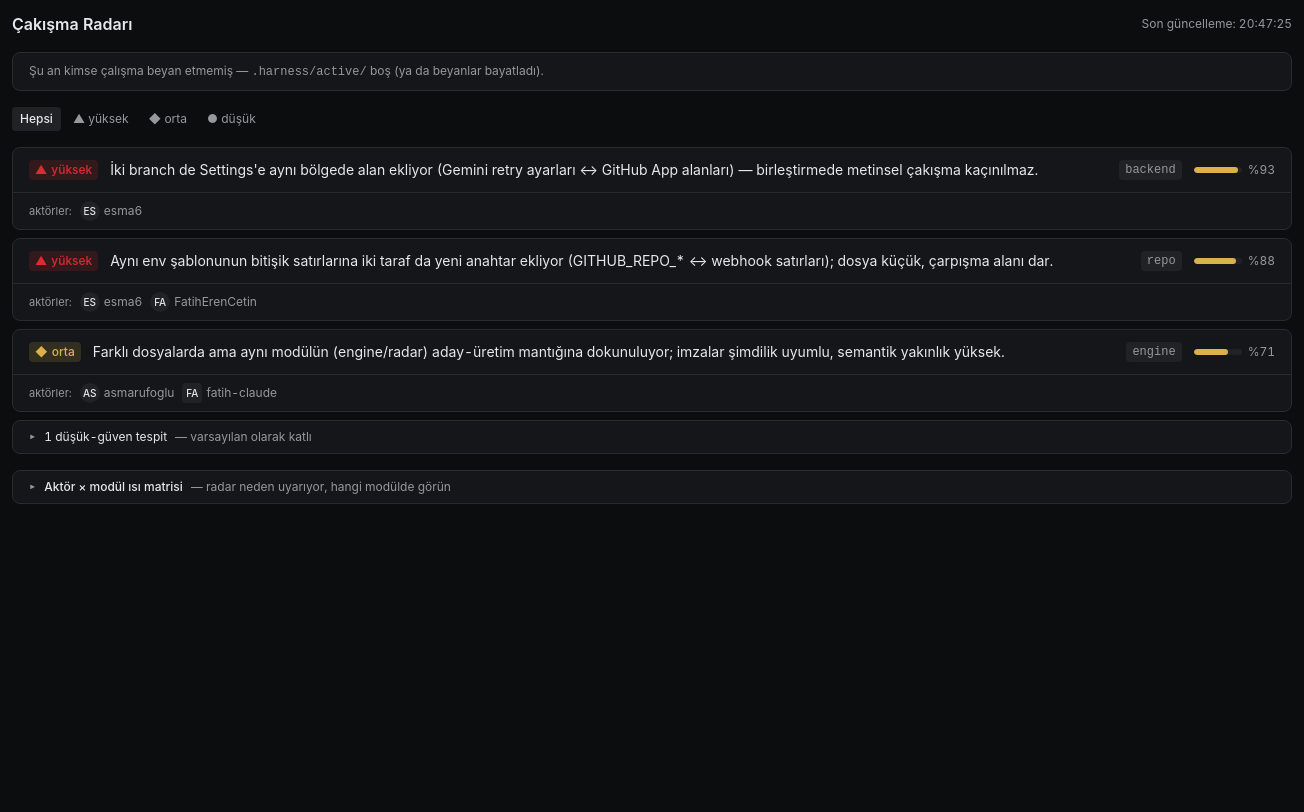
Test: DetailSheet (#156 — Pencil MOGXv'ye dönüş) › ↑↓ görünür listede gezinir
The image size is (1304, 812).
Click the 5th button.
click(652, 170)  # box [13,148,1291,192]
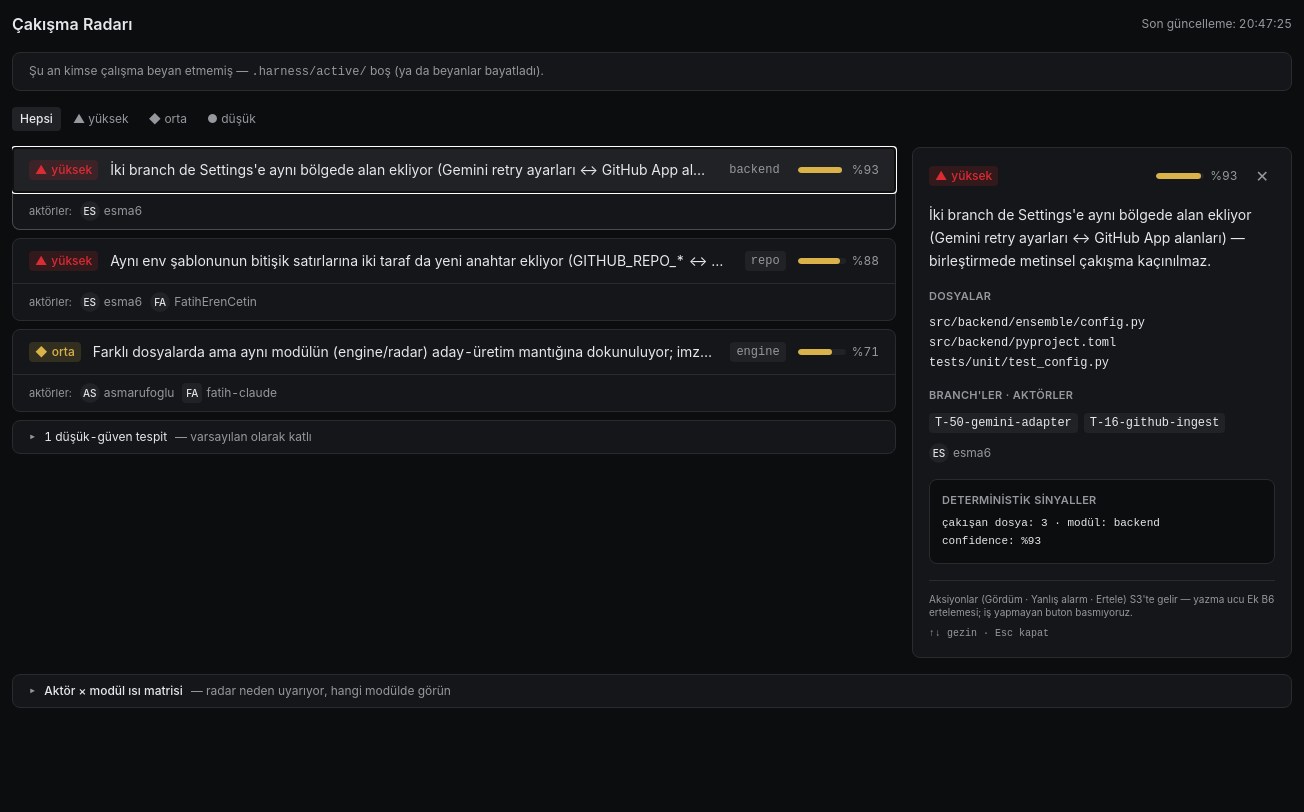
Press Arrowdown
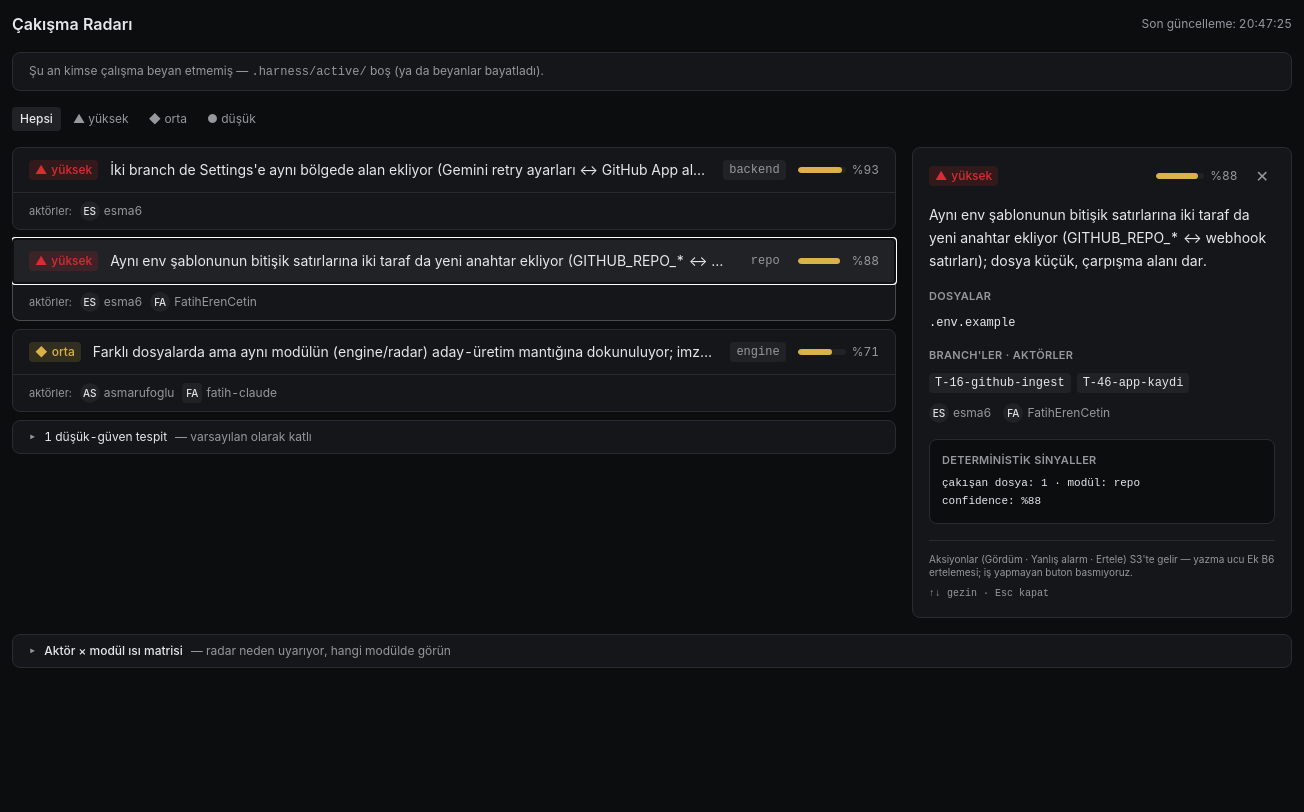
Check: the list item ".env.example" is shown, box [929,316,1015,330]
